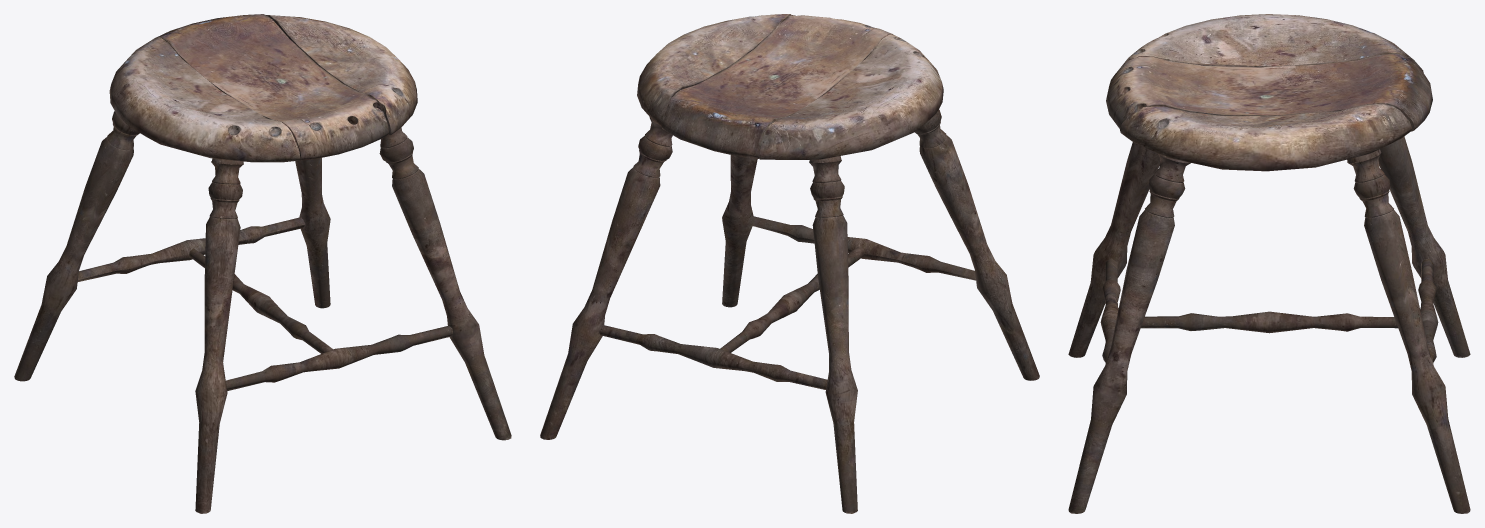
The model's file is wooden_stool_01.glb.
3 renders of one model, left to right at view 1: azimuth 30°, elevation 25°; view 2: azimuth 150°, elevation 25°; view 3: azimuth 270°, elevation 25°, orthographic. The views are drawn at different scales.
Parts seen in each view (by area): view 1: wooden_stool_01; view 2: wooden_stool_01; view 3: wooden_stool_01.
Part boxes in pixels (<box>): wooden_stool_01: <box>14,14,511,513</box>; wooden_stool_01: <box>540,14,1039,513</box>; wooden_stool_01: <box>1068,14,1470,513</box>.
Size of the model in its own units: 0.4254 by 0.4373 by 0.4424.
Materials: 1 (1 with a texture image).
